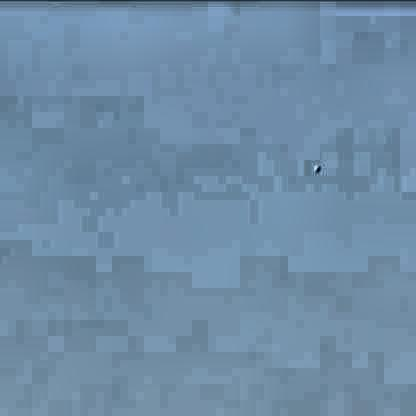golfball: (309, 162, 319, 169)
